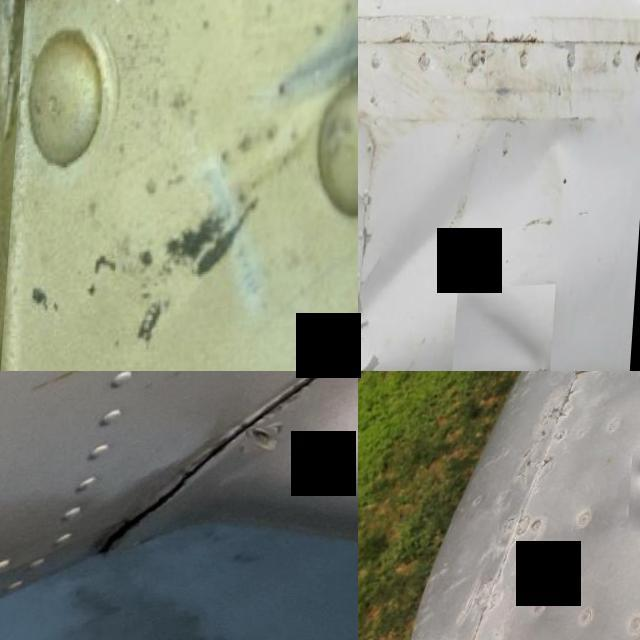Crack: (86, 436, 240, 588), (208, 371, 358, 443)
Dent: (358, 214, 460, 338), (462, 292, 555, 371)
Missing_Fastener: (250, 430, 282, 454)
